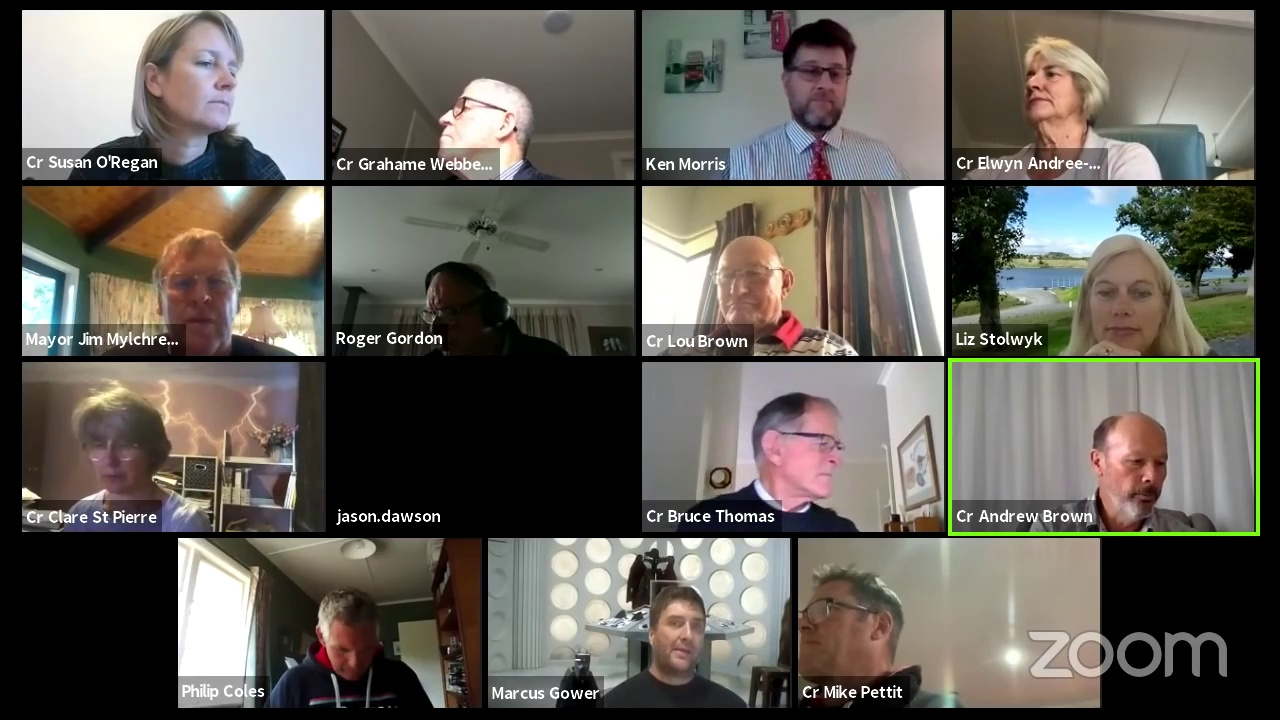Distracted: (136, 20, 245, 130), (799, 561, 898, 682), (745, 392, 845, 502), (1089, 415, 1176, 520), (1016, 39, 1112, 129), (438, 71, 519, 169), (306, 591, 386, 678), (416, 260, 486, 347)
Not Distracted: (147, 232, 239, 362), (1074, 246, 1172, 338), (75, 403, 166, 492), (783, 33, 854, 130), (720, 243, 784, 342), (642, 594, 704, 673)
